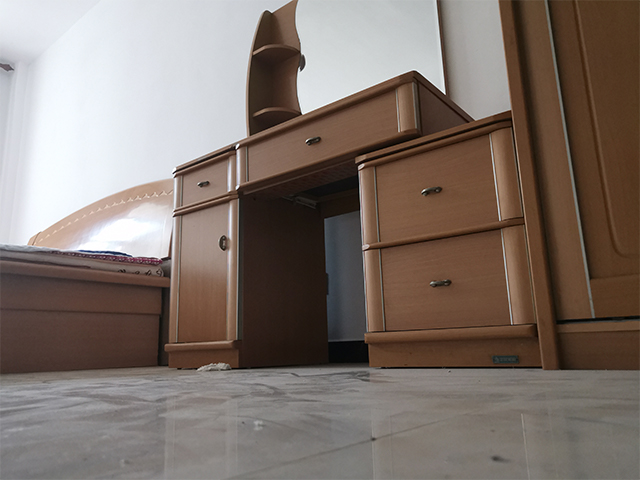bed: (1, 177, 174, 369)
cabinet: (162, 68, 529, 372)
